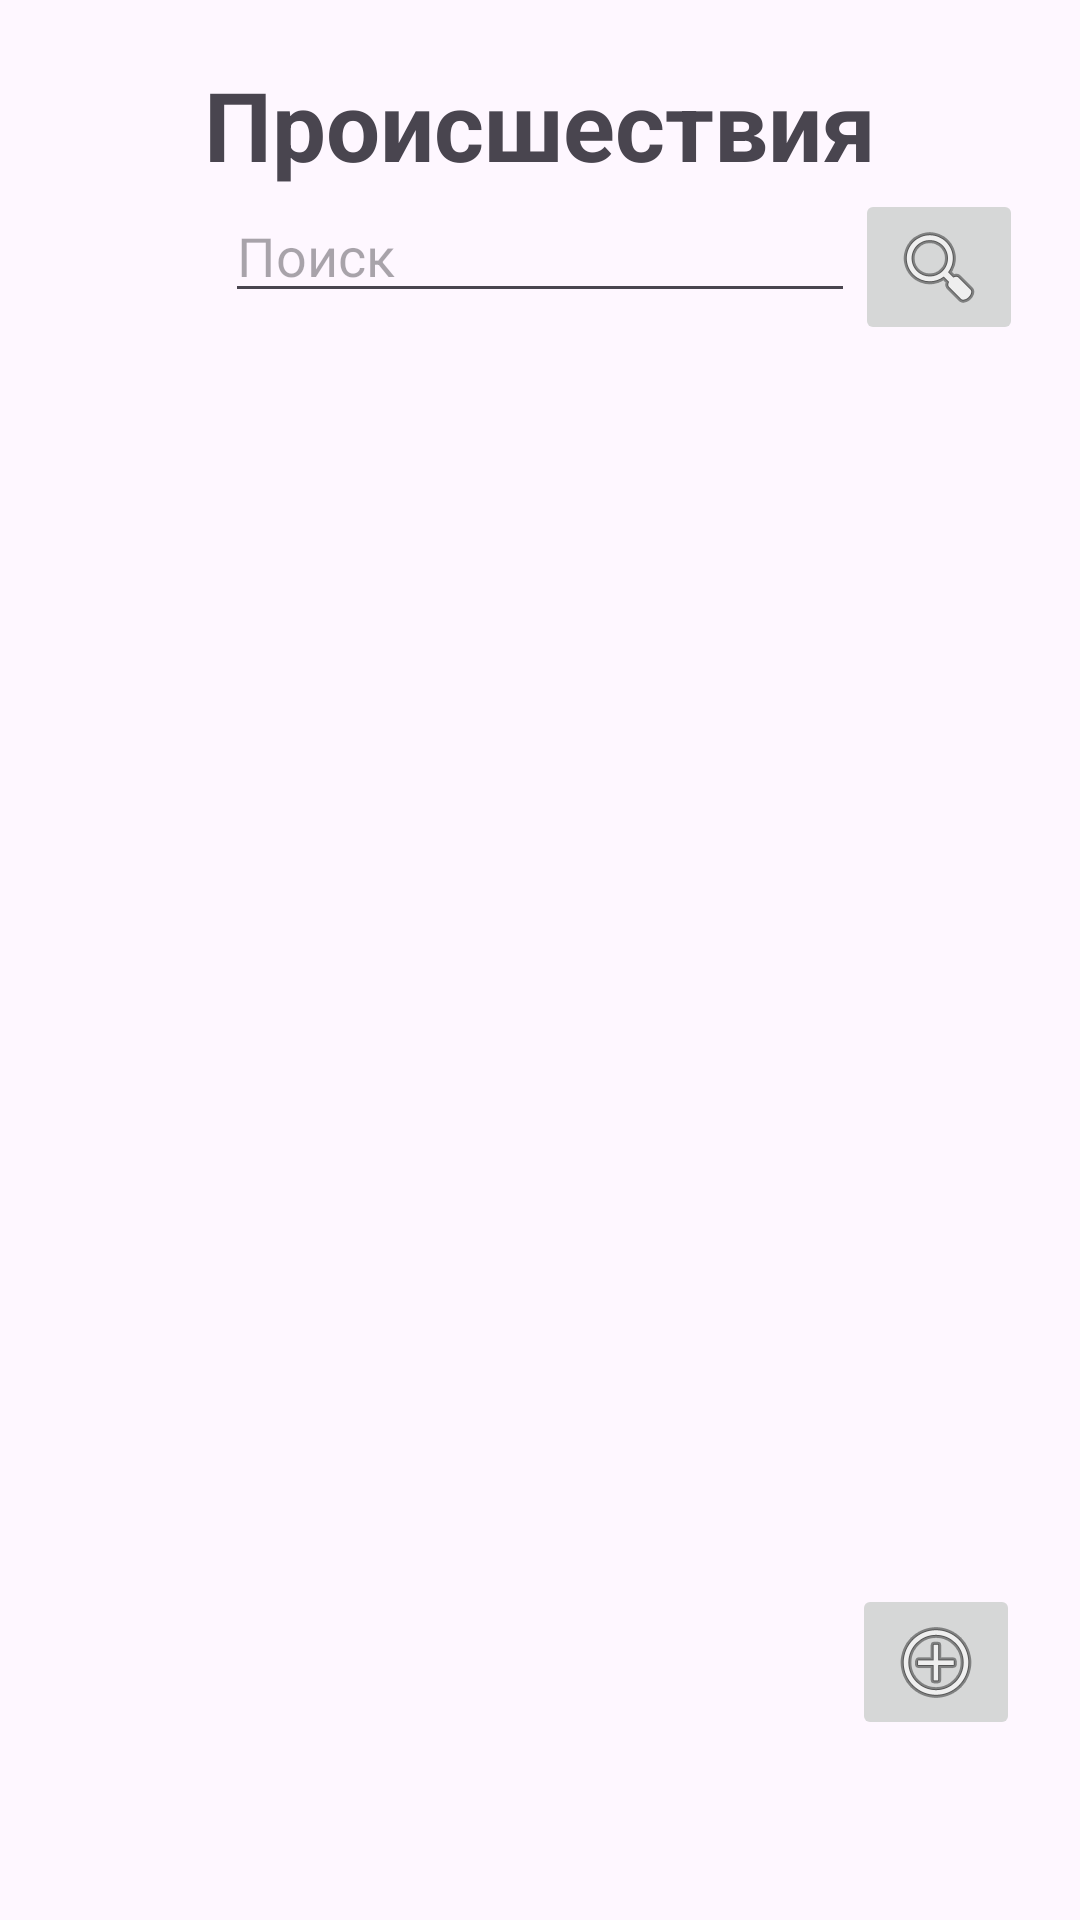

Screen size 1080*1920. Icon name, then its box in pixels as Rect(x1, y1, x2, y2):
add: Rect(864, 1602, 1008, 1722)
search: Rect(867, 207, 1011, 327)
